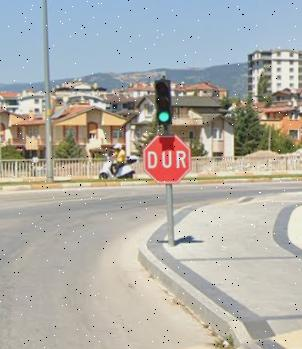greenlight: (148, 76, 182, 129)
stop: (139, 133, 194, 188)
